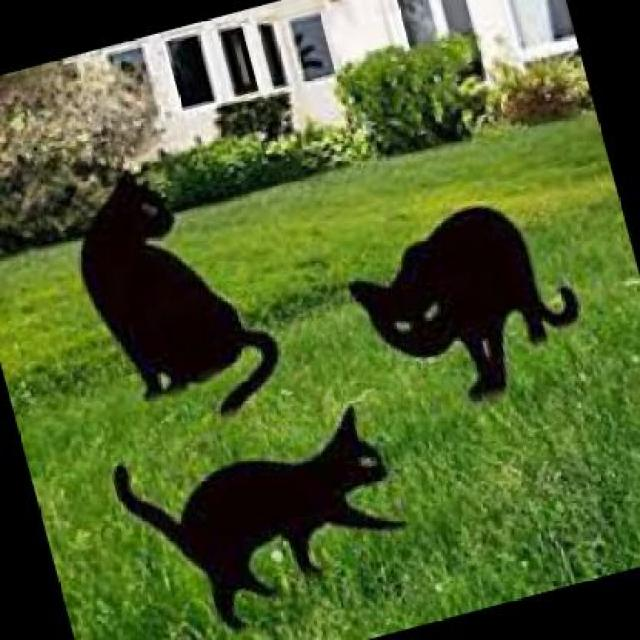animals: (100, 382, 435, 638), (44, 137, 302, 448), (336, 182, 601, 424)
